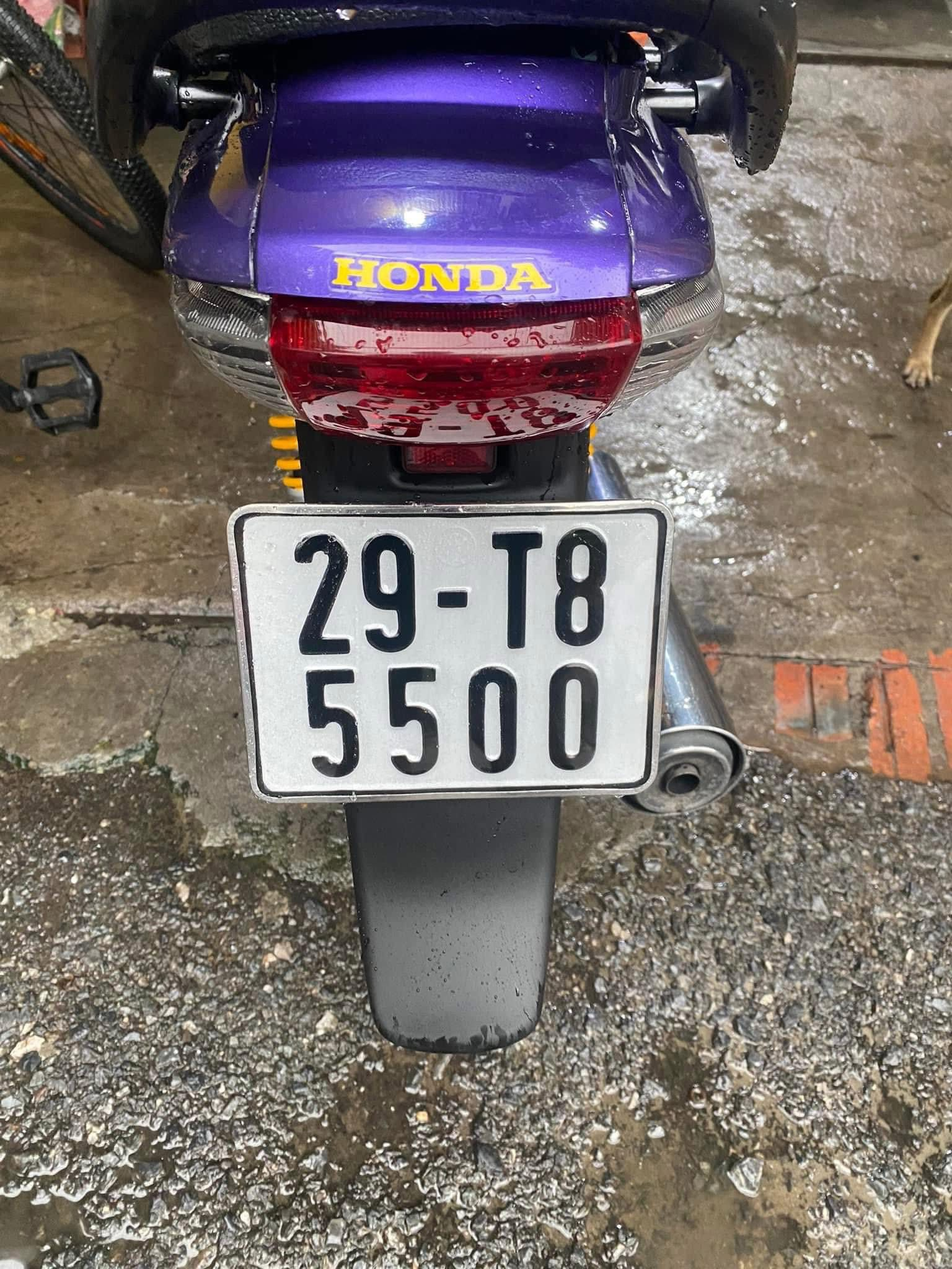bien_so: (211, 495, 684, 810)
